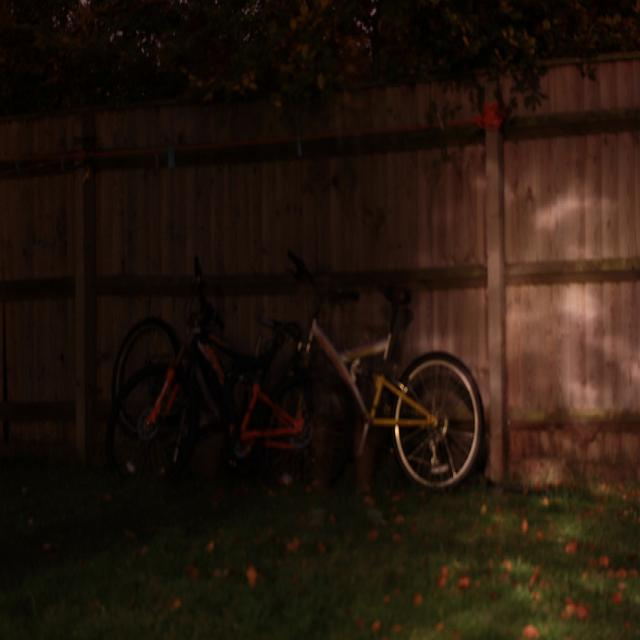Bicycle: (90, 239, 361, 489), (260, 303, 516, 493)
